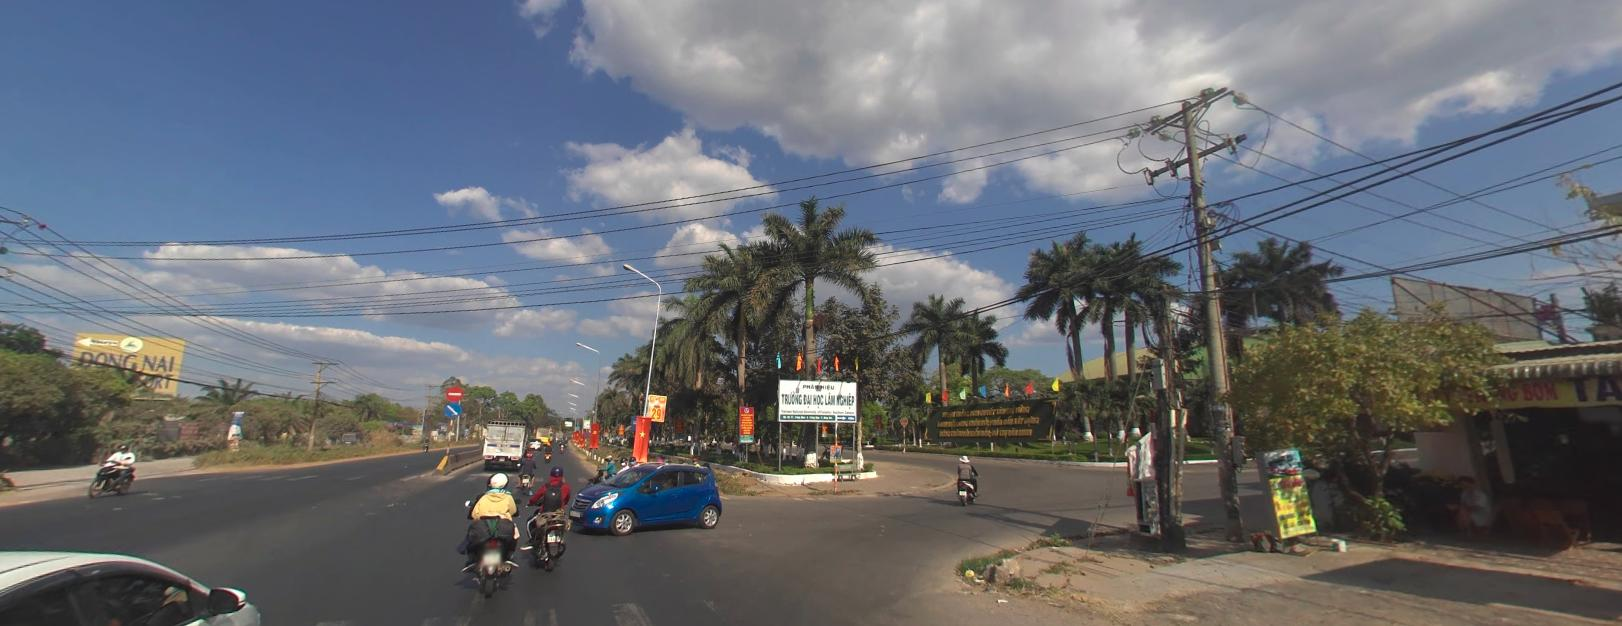Cam nguoc chieu: (446, 383, 463, 398)
Hieu lenh: (443, 400, 462, 416)
